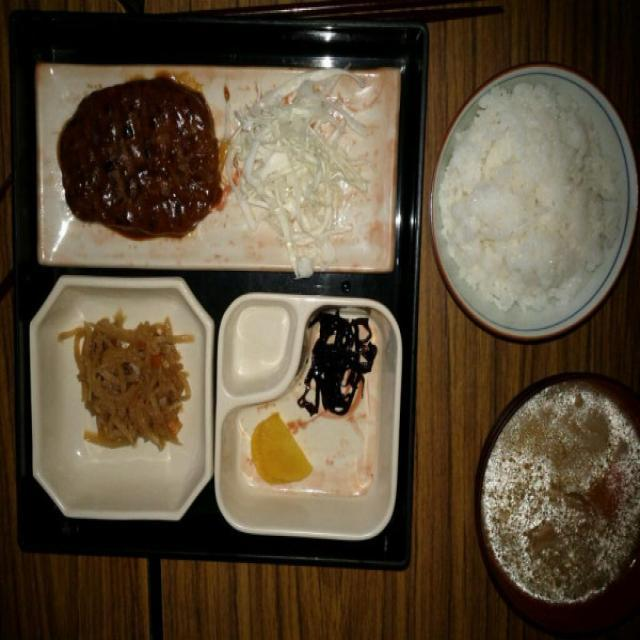Rice: (436, 79, 618, 313)
